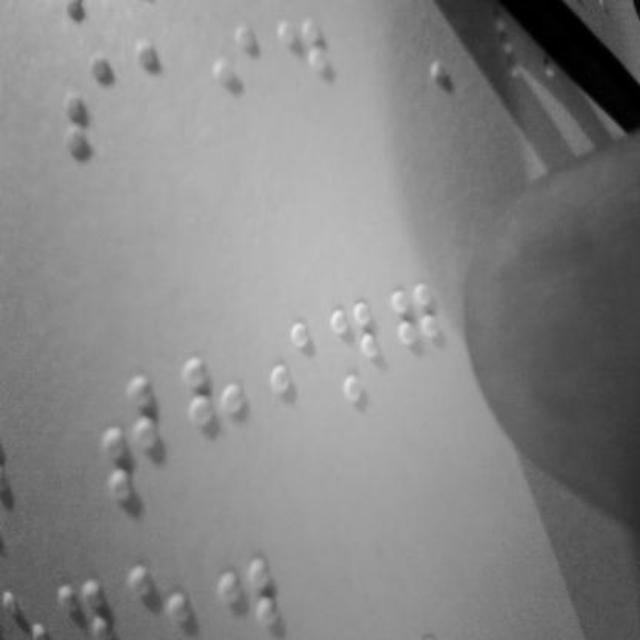braiile: (88, 364, 166, 506), (178, 350, 250, 474), (328, 290, 388, 426), (252, 317, 316, 443), (52, 49, 116, 161), (392, 274, 450, 396), (200, 23, 262, 129), (276, 12, 338, 118), (130, 31, 186, 132)
